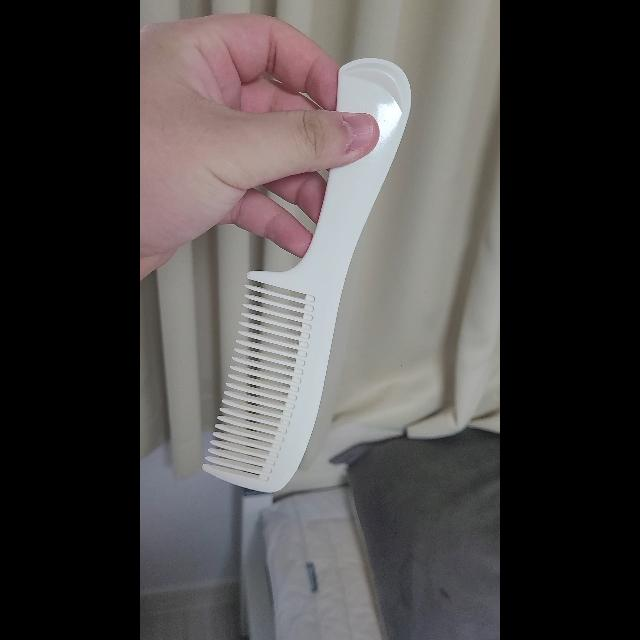COMB: (202, 58, 412, 494)
